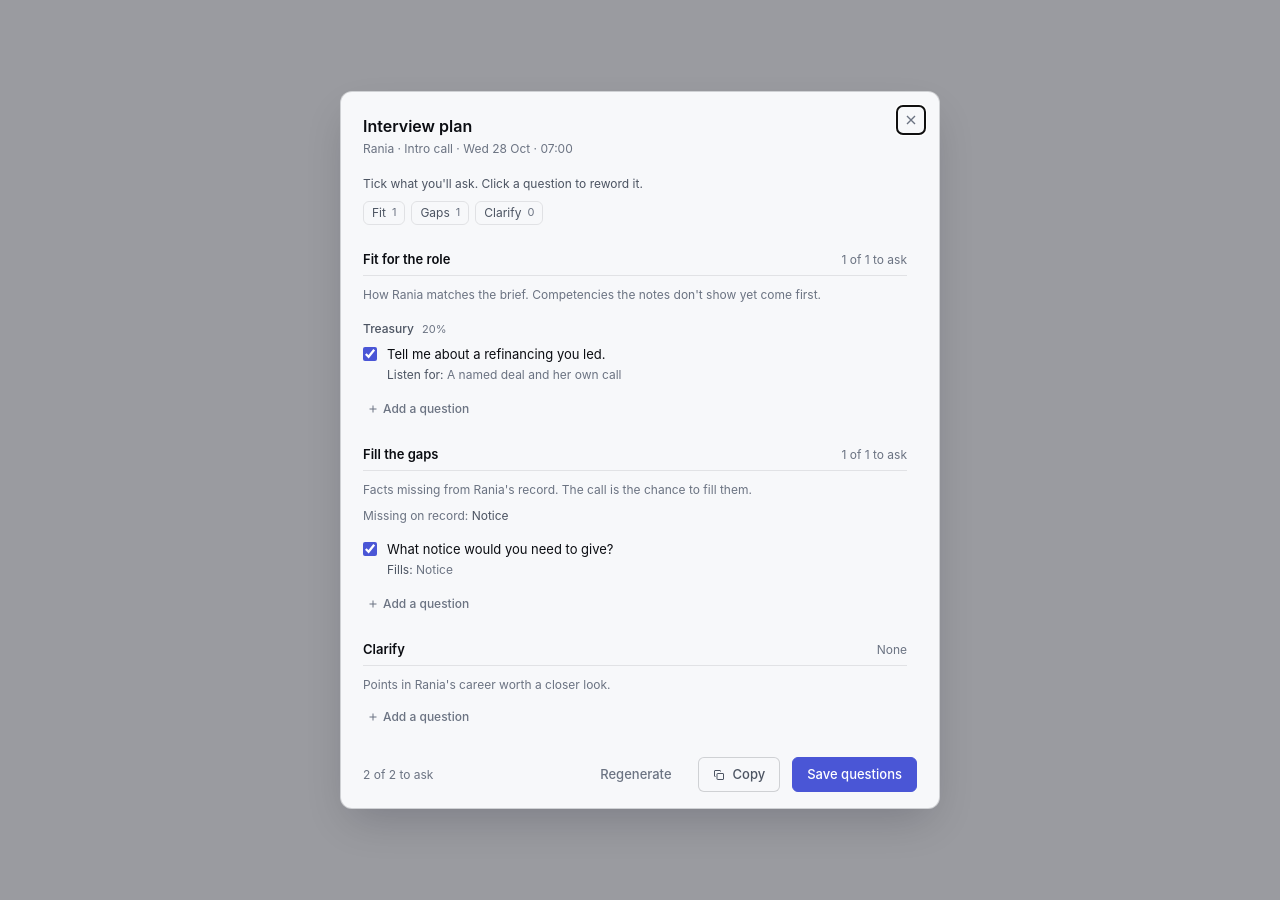
Test case: InterviewPlanDialog › saves the questions as the consultant left them: unticked, edited and added
The width and height of the screenshot is (1280, 900).
Click the checkbox named "Ask this question" below "Missing on record:" at {"x": 370, "y": 549}, box x1=363 y1=542 x2=377 y2=556
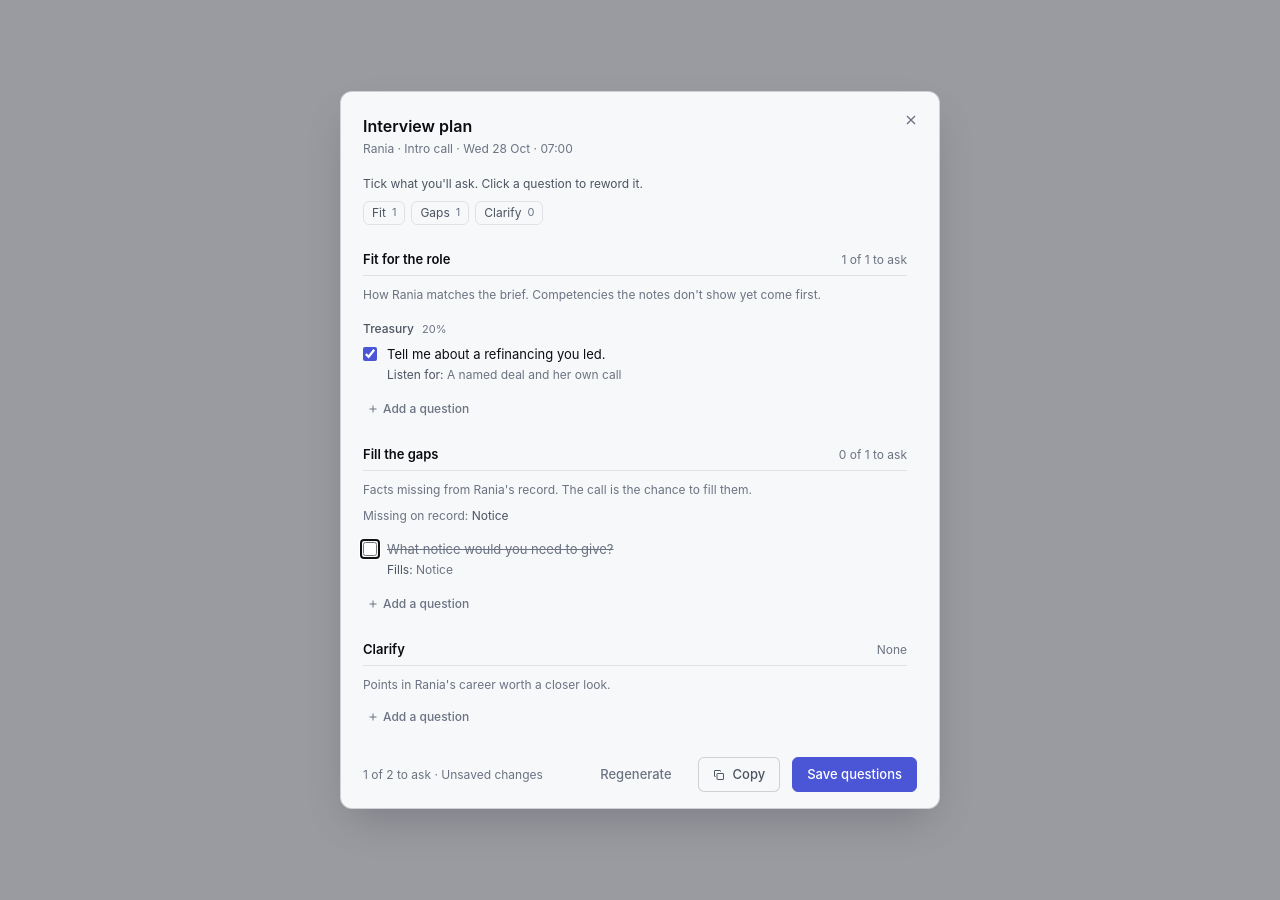
Click the button "Tell me about a refinancing you led." at {"x": 496, "y": 354}, box x1=387 y1=344 x2=873 y2=364
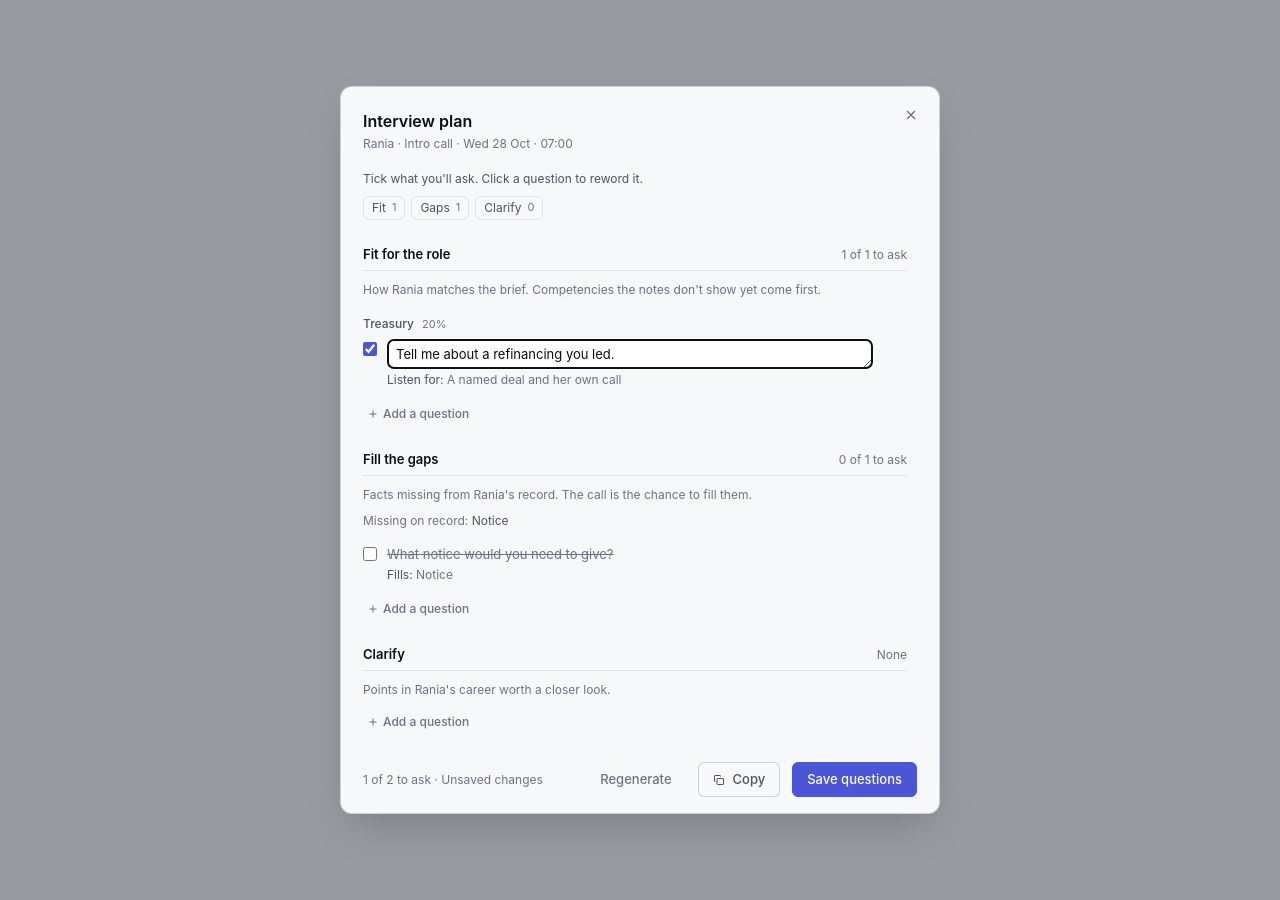
Replace the text in the text box named "question" with "Walk me through one refinancing." at {"x": 630, "y": 354}, box x1=387 y1=339 x2=873 y2=369
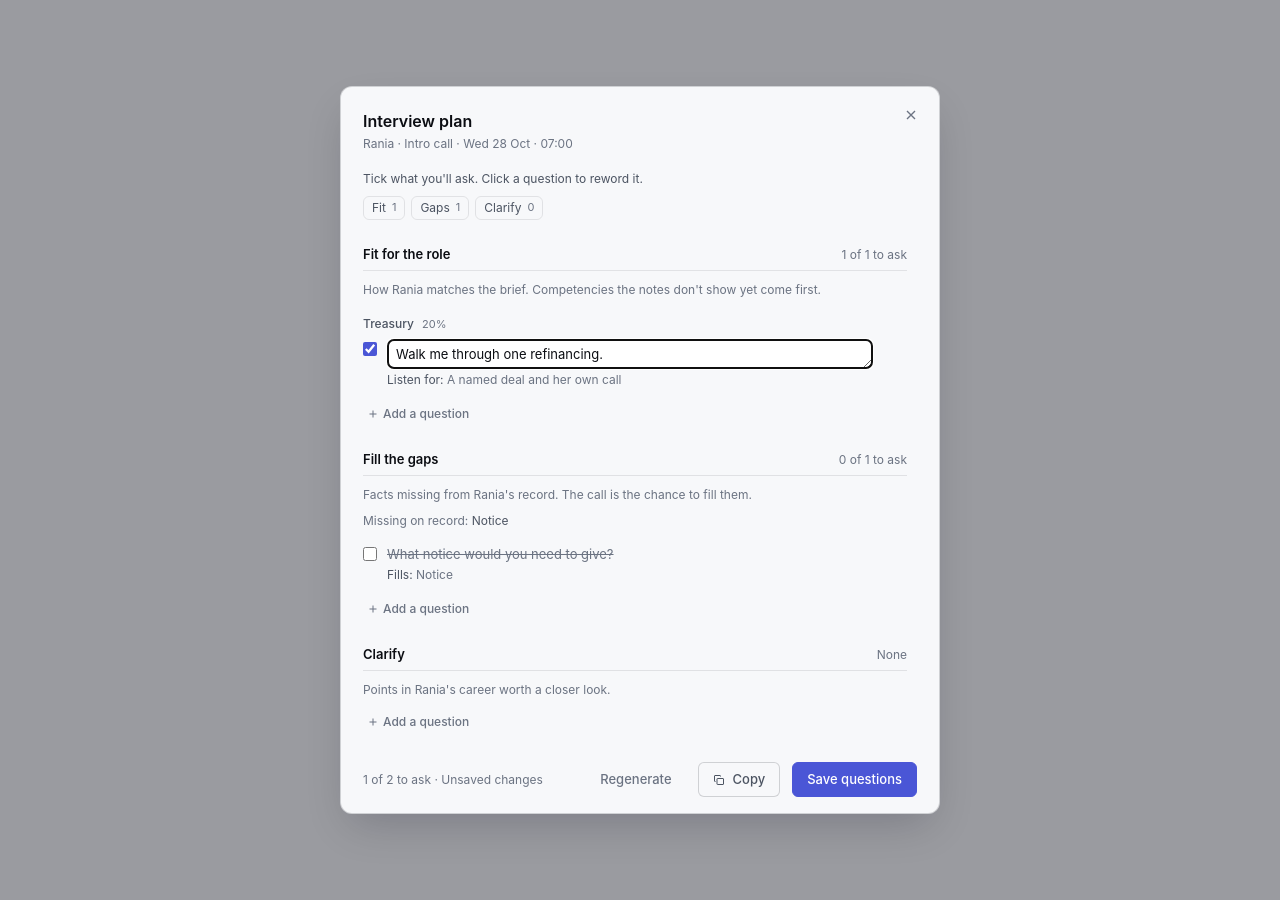
Click the 3rd button "Add a question" at {"x": 418, "y": 722}, box x1=363 y1=711 x2=473 y2=733
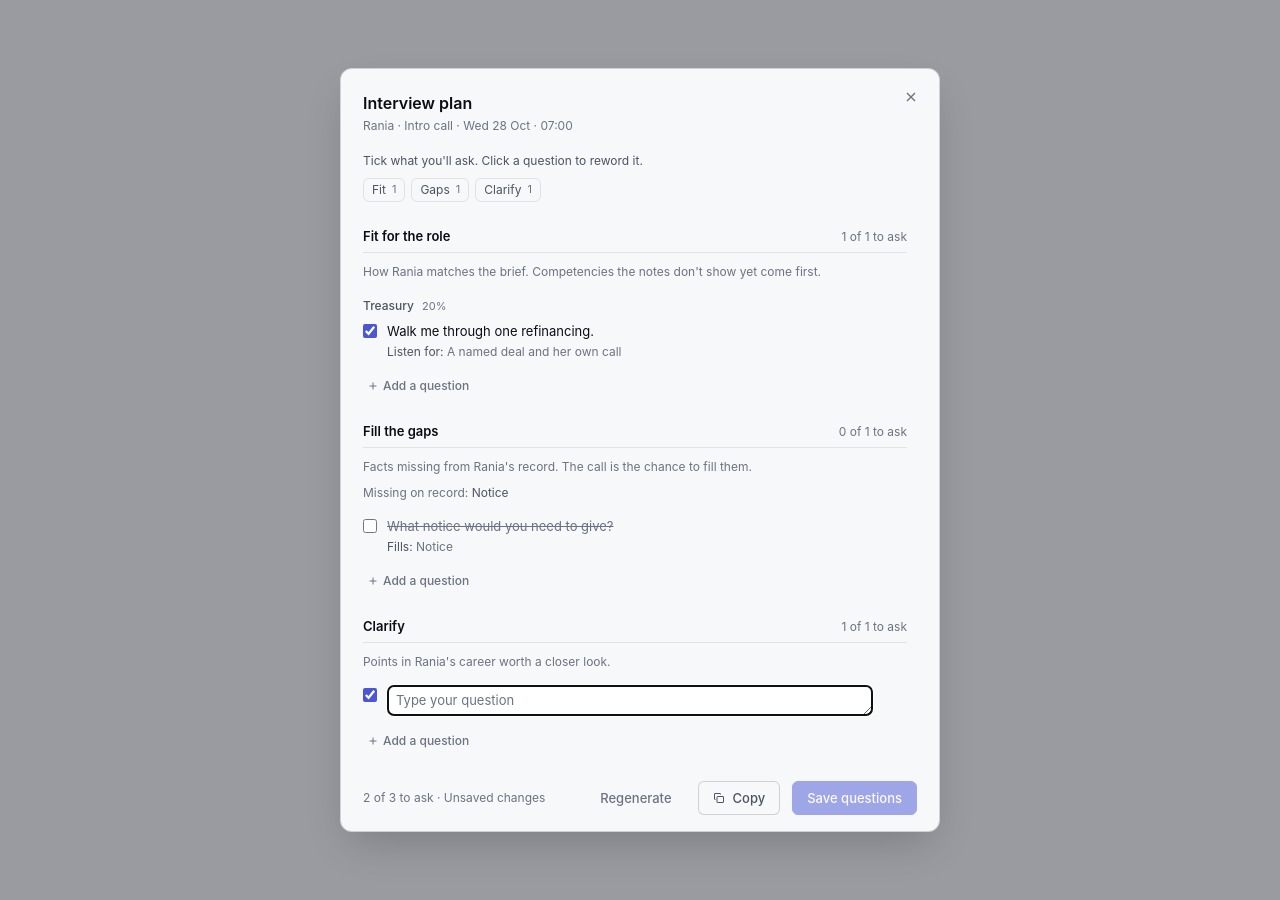
Type "My own question." into the text box labelled "question" at {"x": 630, "y": 700}, box x1=387 y1=685 x2=873 y2=716
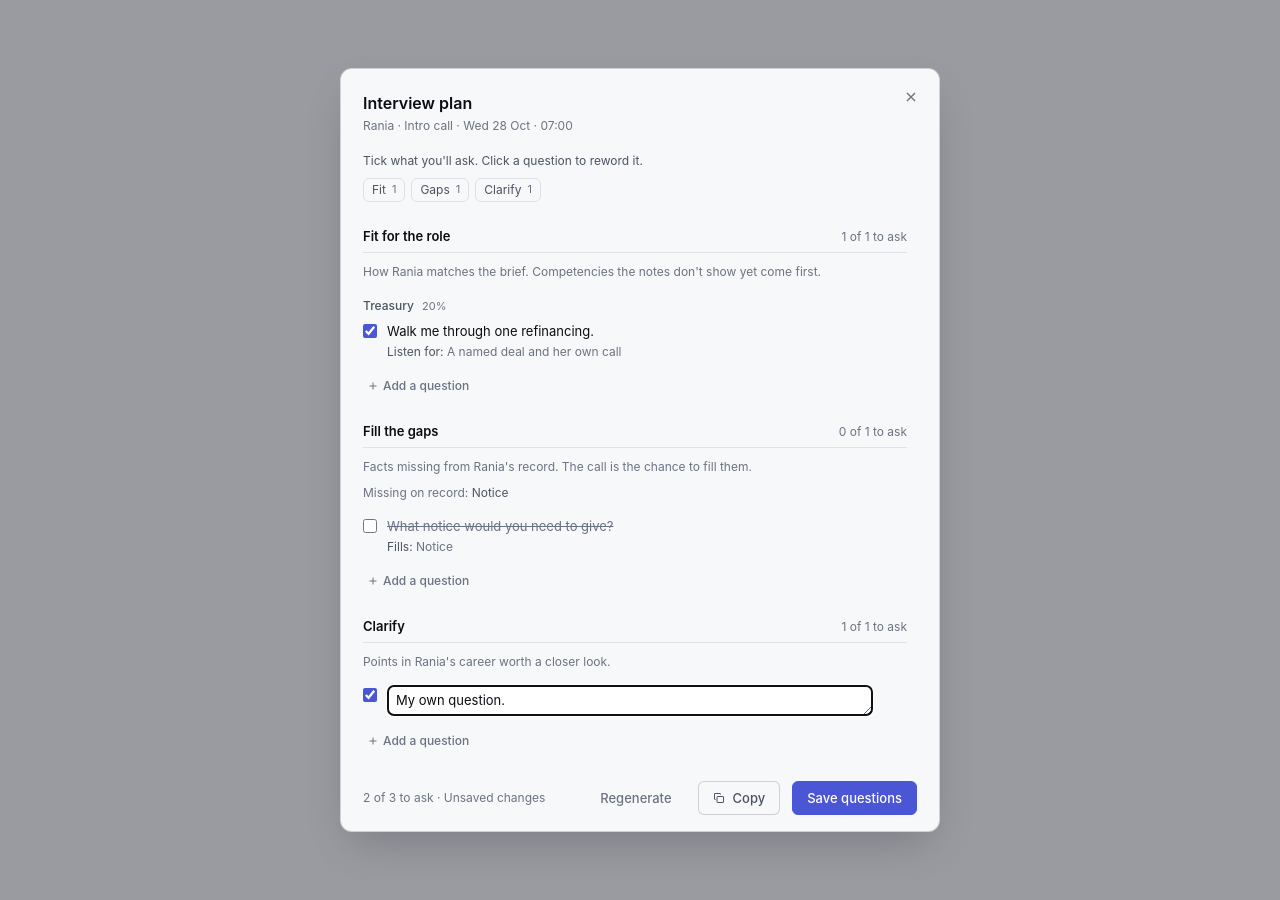
Click the button "Save questions" at {"x": 855, "y": 798}, box x1=792 y1=780 x2=917 y2=815
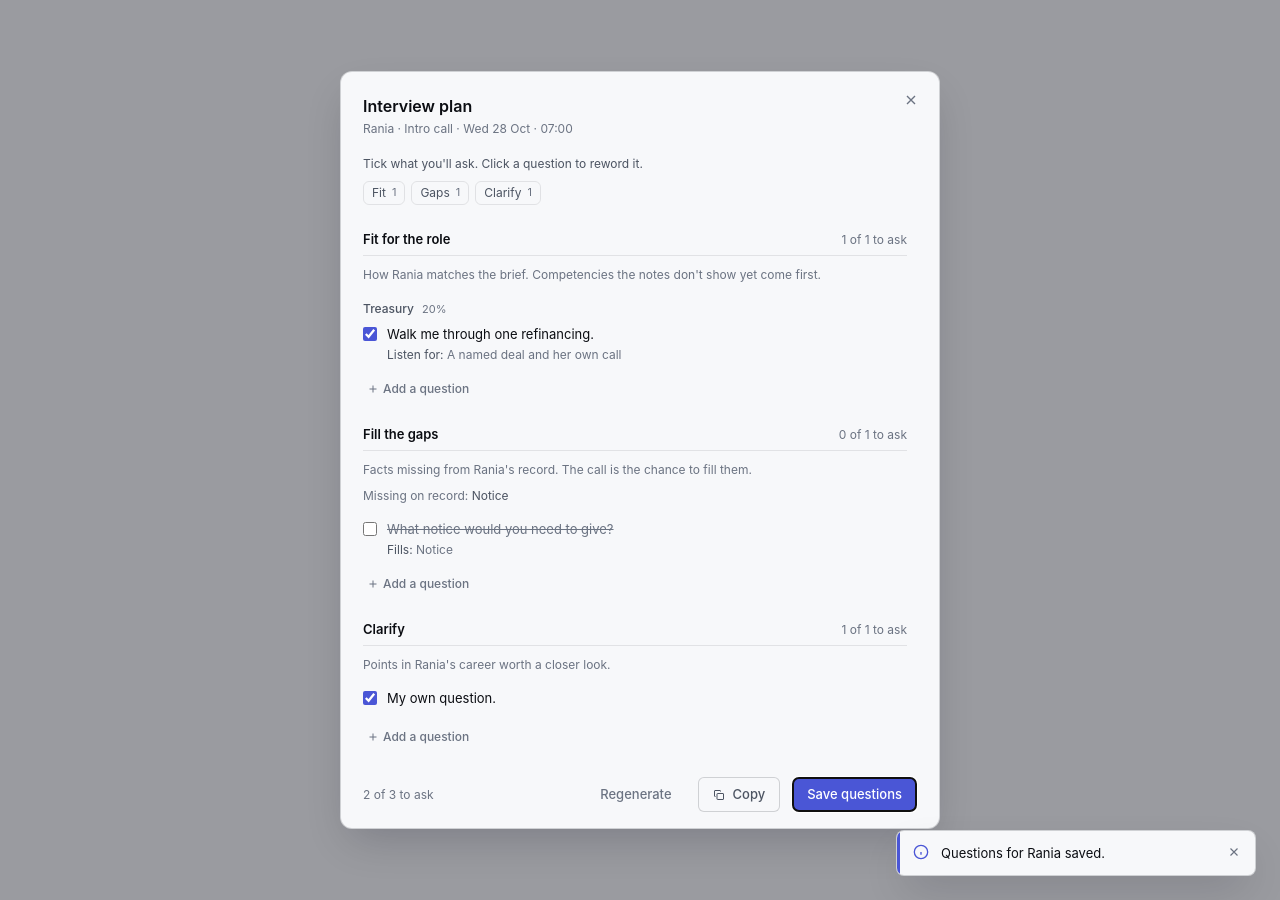
Check: the text "Questions for Rania saved." is shown, box x1=941 y1=845 x2=1105 y2=861
